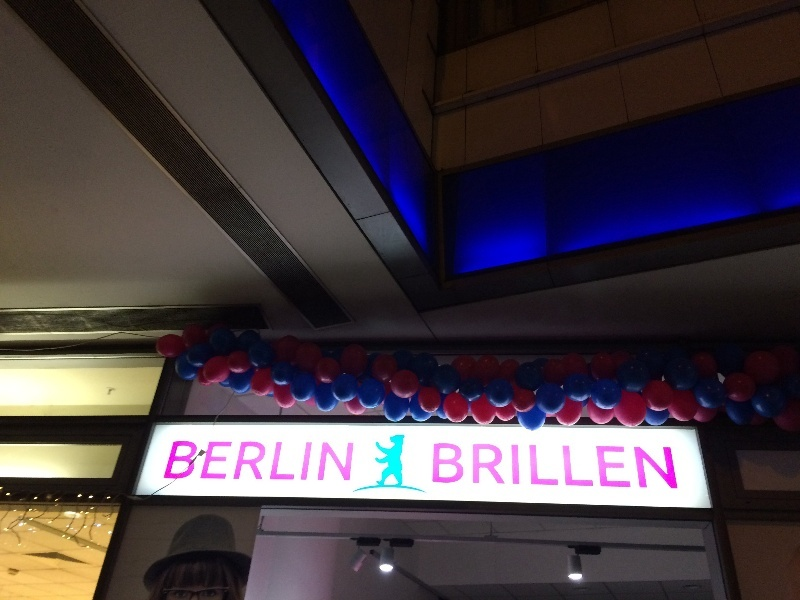text: (449, 444, 464, 489), (465, 444, 480, 489), (481, 444, 496, 489), (497, 444, 512, 489), (513, 444, 528, 489), (529, 444, 544, 489), (545, 444, 560, 489), (561, 444, 576, 489), (577, 444, 592, 489), (593, 444, 608, 489), (609, 444, 624, 489), (625, 444, 640, 489), (641, 444, 656, 489), (657, 444, 672, 489), (177, 441, 192, 482), (193, 441, 208, 482), (209, 441, 224, 482), (225, 441, 240, 482), (241, 441, 256, 482), (257, 441, 272, 482), (273, 441, 288, 482), (289, 441, 304, 482), (305, 441, 320, 482), (321, 441, 336, 482), (337, 441, 352, 482), (435, 444, 448, 489), (673, 444, 678, 489), (174, 441, 176, 482), (353, 441, 354, 482)
